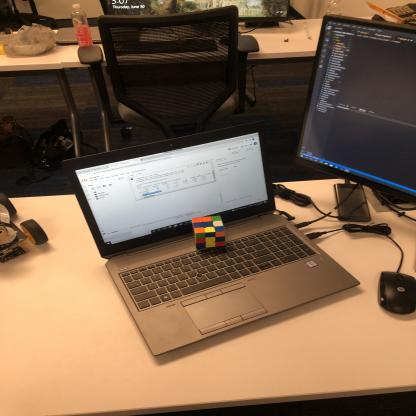UnsolvedCube: (191, 213, 228, 248)
